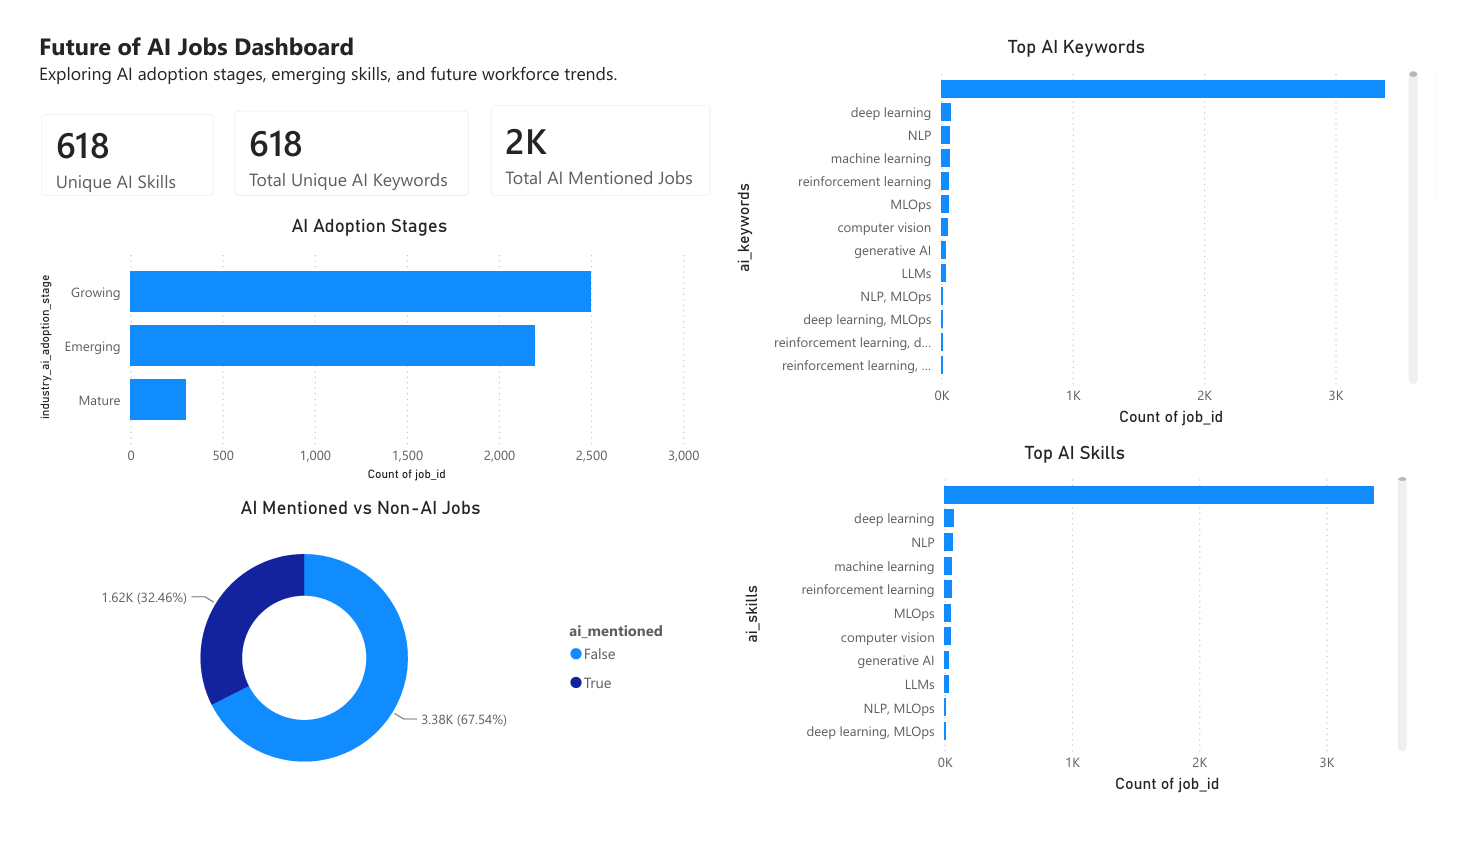

The page's visual inventory and layout, read from the dashboard file:
{"tool":"powerbi","page":{"name":"Future of AI Jobs Dashboard","canvas":[1280,720],"ordinal":3},"visuals":[{"type":"textbox","box":[9.8,0,618.8,69.7],"z":0},{"type":"clusteredBarChart","title":"AI Adoption Stages","fields":{"Category":["ai_impact_jobs_2010_2025.industry_ai_adoption_stage"],"Y":["CountNonNull(ai_impact_jobs_2010_2025.job_id)"]},"box":[9.8,172.4,607.7,245.8],"z":1000},{"type":"clusteredBarChart","title":"Top AI Skills","fields":{"Category":["ai_impact_jobs_2010_2025.ai_skills"],"Y":["CountNonNull(ai_impact_jobs_2010_2025.job_id)"]},"box":[646.7,376.7,611.7,323.3],"z":2000},{"type":"clusteredBarChart","title":"Top AI Keywords","fields":{"Y":["CountNonNull(ai_impact_jobs_2010_2025.job_id)"],"Category":["ai_impact_jobs_2010_2025.ai_keywords"]},"box":[639.5,9.8,628.5,358.3],"z":3000},{"type":"donutChart","title":"AI Mentioned vs Non-AI Jobs","fields":{"Category":["ai_impact_jobs_2010_2025.ai_mentioned"],"Y":["CountNonNull(ai_impact_jobs_2010_2025.job_id)"]},"box":[9.9,426.8,592.5,273.4],"z":4000},{"type":"cardVisual","fields":{"Data":["ai_impact_jobs_2010_2025.Unique AI Skills"]},"box":[0,63.6,189.5,108.8],"z":5000},{"type":"cardVisual","fields":{"Data":["ai_impact_jobs_2010_2025.Total Unique AI Keywords"]},"box":[174.9,61.1,245.8,111.3],"z":6000},{"type":"cardVisual","fields":{"Data":["ai_impact_jobs_2010_2025.Total AI Mentioned Jobs"]},"box":[407.2,56.3,232.3,116.2],"z":7000}]}

Visuals, with their boxes in screenshot pixels (x1, y1, x2, y2), scaled from the page's 1280x720 canvas onto the 1462x842 screenshot:
textbox: 11, 0, 718, 82
"AI Adoption Stages" clusteredBarChart: 11, 202, 705, 489
"Top AI Skills" clusteredBarChart: 739, 441, 1437, 819
"Top AI Keywords" clusteredBarChart: 730, 11, 1448, 430
"AI Mentioned vs Non-AI Jobs" donutChart: 11, 499, 688, 819
cardVisual - ai_impact_jobs_2010_2025.Unique AI Skills: 0, 74, 216, 202
cardVisual - ai_impact_jobs_2010_2025.Total Unique AI Keywords: 200, 71, 481, 202
cardVisual - ai_impact_jobs_2010_2025.Total AI Mentioned Jobs: 465, 66, 730, 202
